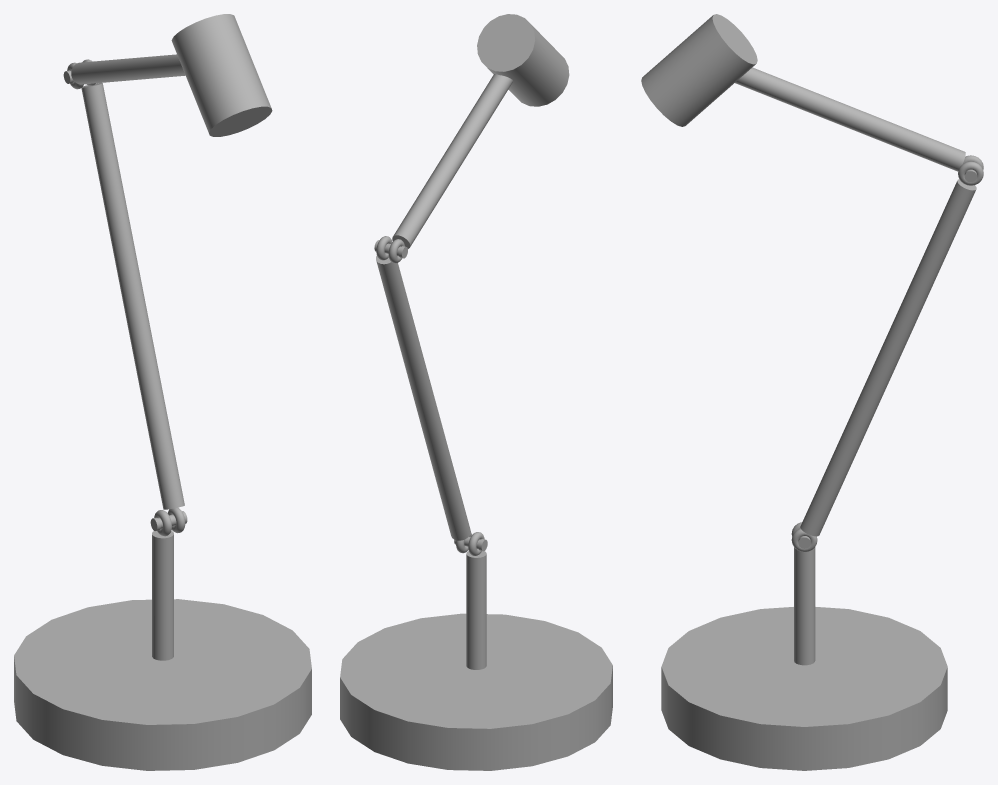
The model's file is EstructuraMetal.obj.
The picture shows the model from 3 angles, left to right: view 1: azimuth 30°, elevation 25°; view 2: azimuth 150°, elevation 25°; view 3: azimuth 270°, elevation 25°; orthographic projection. The views are drawn at different scales.
Visible parts, largest first — view 1: pCylinder3, pCylinder4, pCylinder17, pCylinder6, pCylinder14; view 2: pCylinder3, pCylinder4, pCylinder17, pCylinder14, pCylinder6; view 3: pCylinder3, pCylinder4, pCylinder17, pCylinder14, pCylinder6.
Boxes of the visible parts, x1,y1,x2,y2 form: pCylinder3: (14,599,311,770); pCylinder4: (81,83,184,509); pCylinder17: (171,14,272,136); pCylinder6: (152,531,173,660); pCylinder14: (71,54,185,84); pCylinder3: (340,613,612,770); pCylinder4: (376,255,470,540); pCylinder17: (477,14,569,106); pCylinder14: (392,74,512,248); pCylinder6: (466,551,486,669); pCylinder3: (661,607,947,770); pCylinder4: (800,179,976,536); pCylinder17: (641,14,757,126); pCylinder14: (735,67,965,171); pCylinder6: (794,547,815,665).
Bounding box in the file's own units: 1.5 × 4.03 × 1.8.
